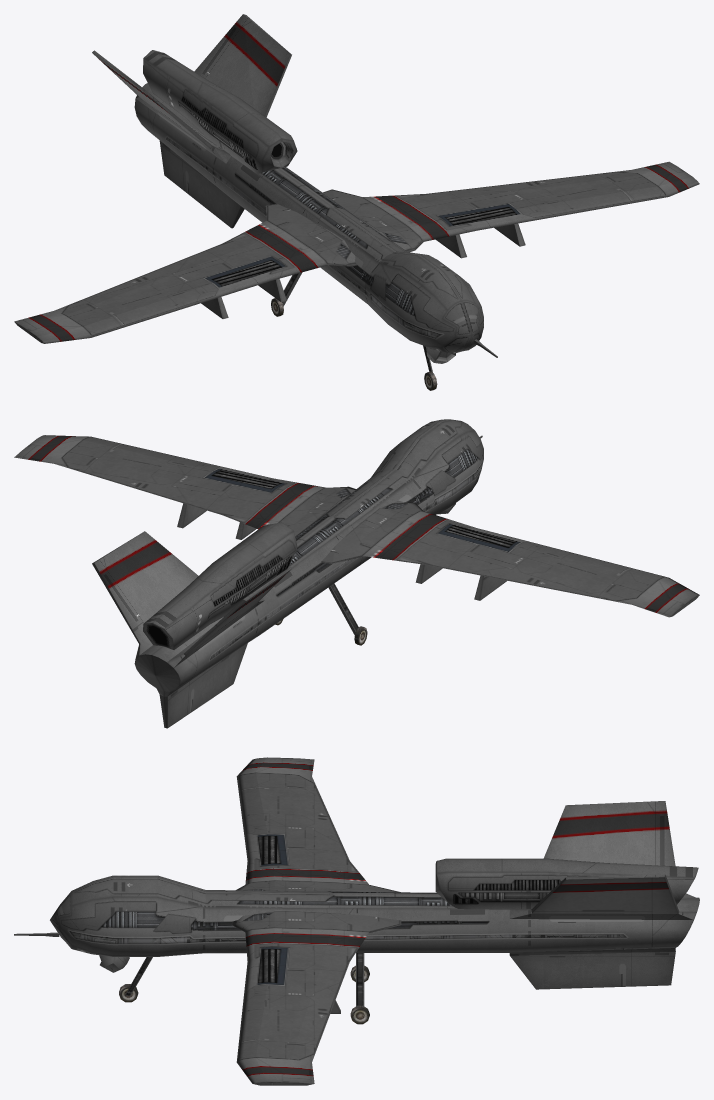
The model's file is unmannedDroneType01.FBX.
The picture shows the model from 3 angles, top to bottom: view 1: azimuth 30°, elevation 25°; view 2: azimuth 150°, elevation 25°; view 3: azimuth 270°, elevation 25°; orthographic projection.
Parts seen in each view (by area): view 1: unmannedDroneType01; view 2: unmannedDroneType01; view 3: unmannedDroneType01.
Boxes of the visible parts, <box> form: unmannedDroneType01: <box>14,14,699,390</box>; unmannedDroneType01: <box>14,419,699,728</box>; unmannedDroneType01: <box>14,757,699,1085</box>.
Size of the model in its own units: 4.08 by 3.65 by 0.969.
Materials: 1 (1 with a texture image).
